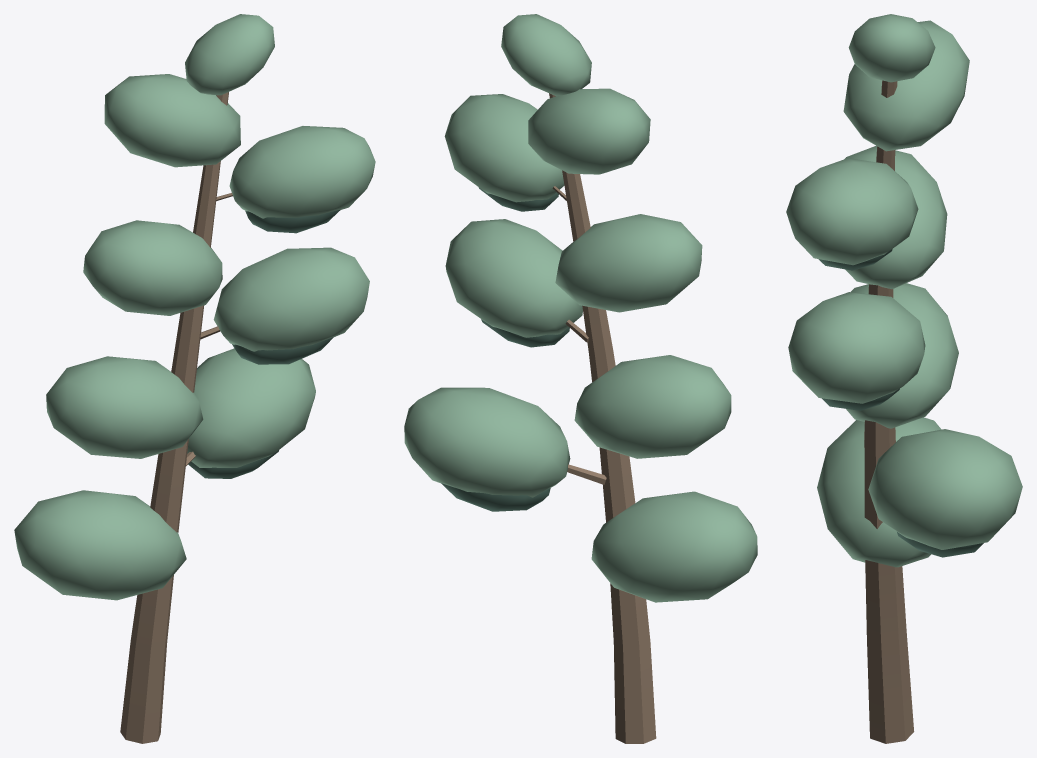
Rendered from cloudloft_pine_young.glb.
3 renders of one model, left to right at view 1: azimuth 30°, elevation 25°; view 2: azimuth 150°, elevation 25°; view 3: azimuth 270°, elevation 25°, orthographic. The views are drawn at different scales.
Visible parts, largest first — view 1: cloudloft_pine_young; view 2: cloudloft_pine_young; view 3: cloudloft_pine_young.
Part boxes in pixels (<box>): cloudloft_pine_young: <box>14,14,375,743</box>; cloudloft_pine_young: <box>404,14,757,743</box>; cloudloft_pine_young: <box>786,14,1022,743</box>.
Bounding box in the file's own units: 2.07 × 4.26 × 1.18.
